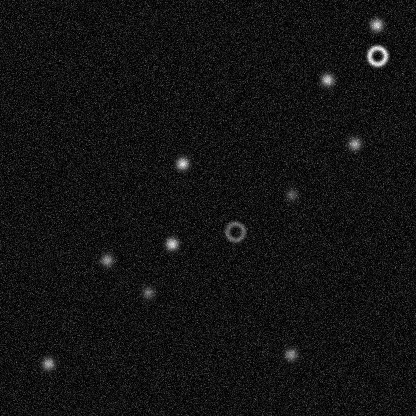Ring: (365, 43, 389, 67), (223, 219, 247, 243)
Spot: (174, 155, 190, 171), (98, 252, 114, 268), (346, 135, 362, 151), (163, 235, 179, 251), (283, 186, 299, 202), (368, 16, 384, 32), (40, 355, 56, 371), (319, 71, 335, 87), (140, 284, 156, 300), (282, 346, 298, 362)
